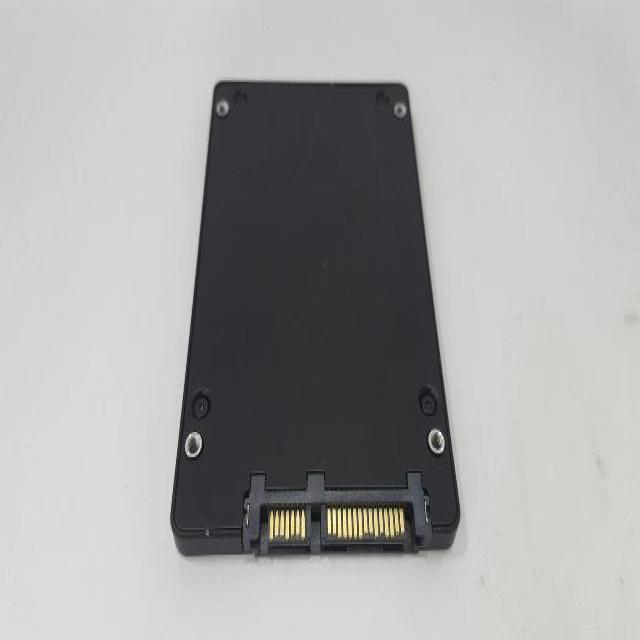DISK: (169, 78, 461, 558)
